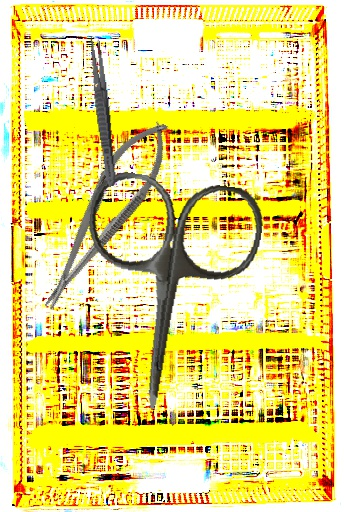Dressing Forceps: (85, 34, 120, 188)
Iris Scissors: (64, 168, 268, 421)
Needle Holder: (24, 108, 185, 322)
